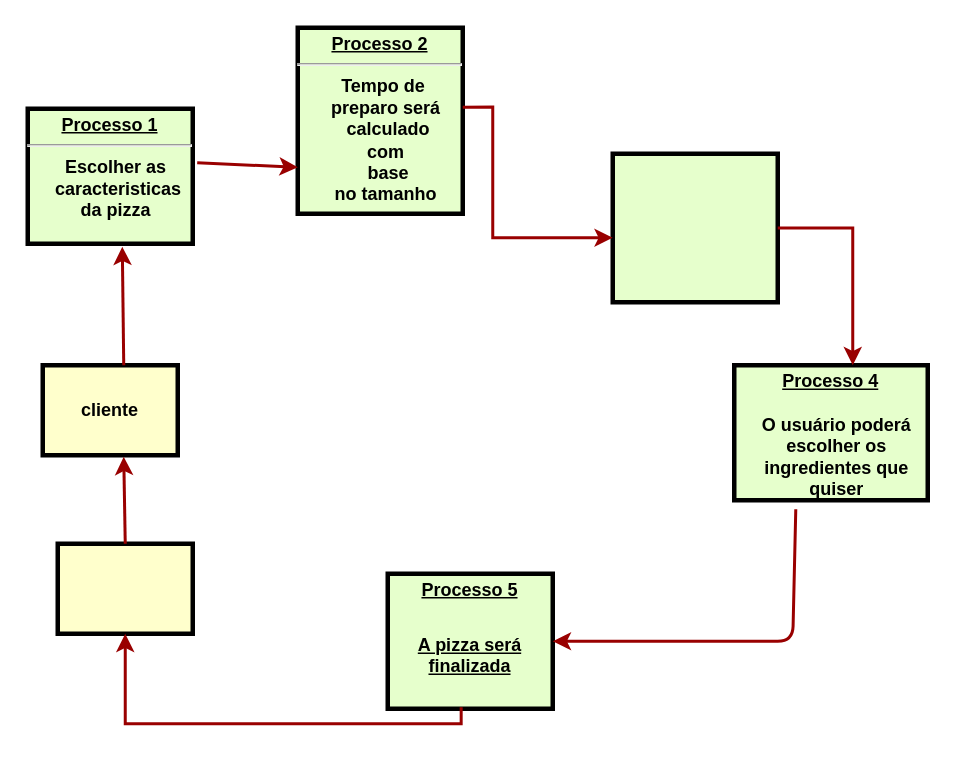
Some shapes in this 956 by 764 pixel diagram are drawn without their labels. Each missing label, with the centre of its shape:
"pizza pronta" belongs at (x=124, y=588).
"Processo 3 O usuário irá escolher entre pizza doce ou salgada" belongs at (x=694, y=227).
